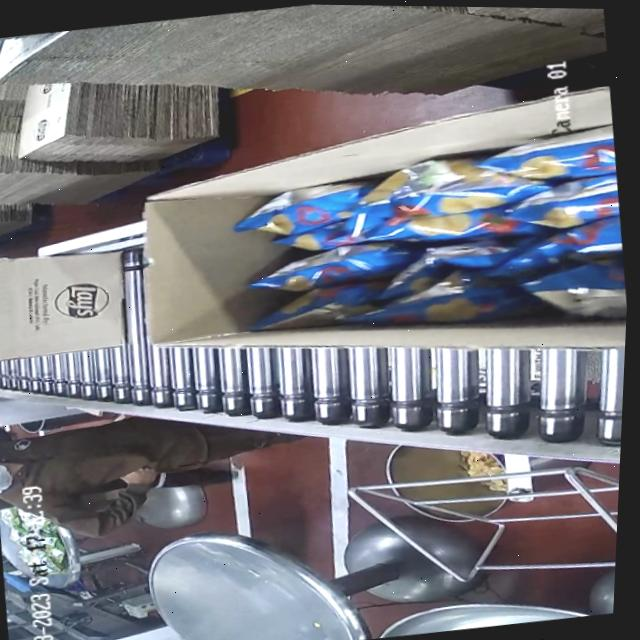PAPRIKA: (210, 125, 633, 343)
